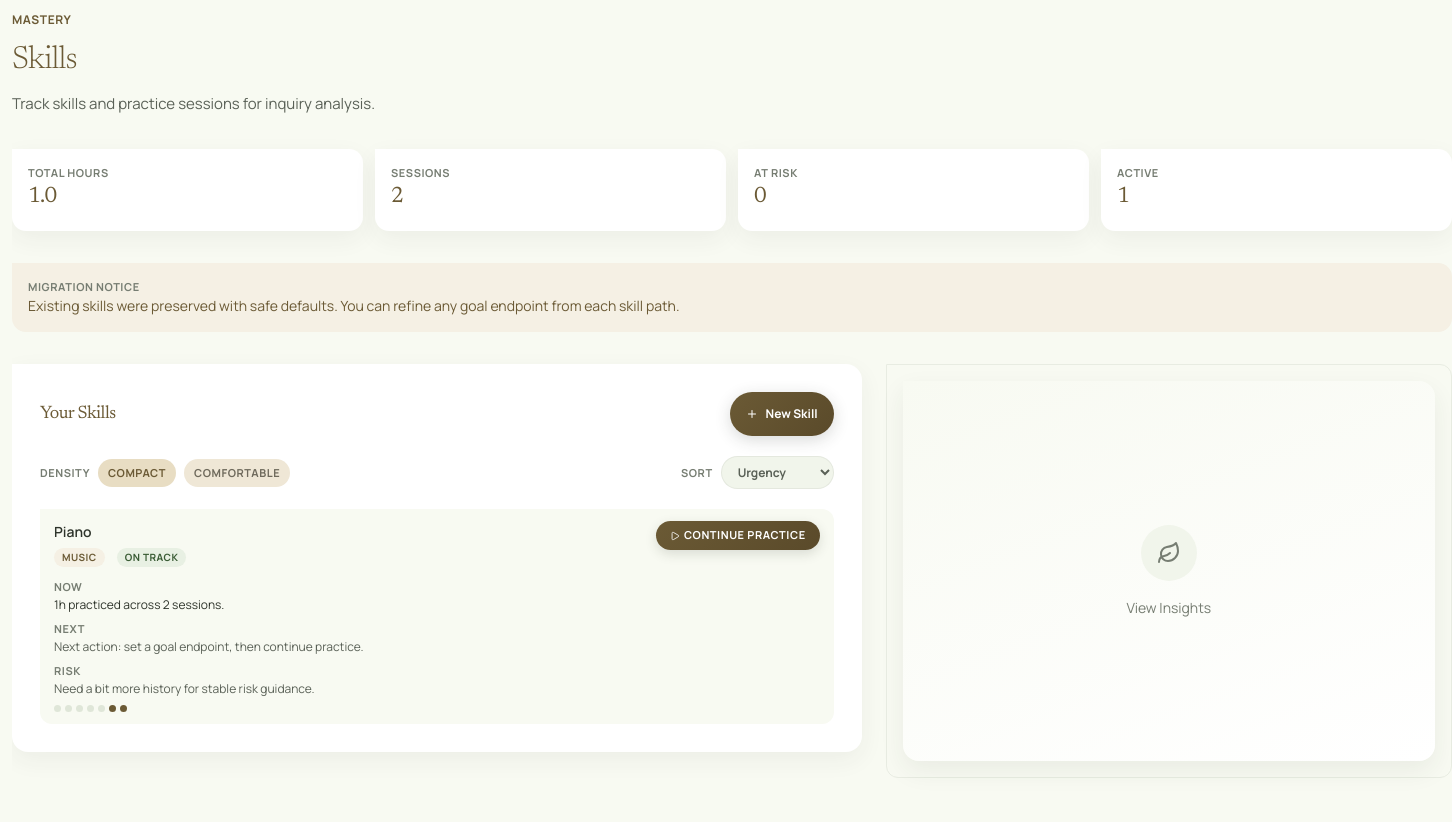
SkillsPage create flow rollout behavior › renders qualitative-goal forecast reason copy for non-projectable goal types
Click the button with aria-label "open details for piano": (437, 617) [40,509,834,724]
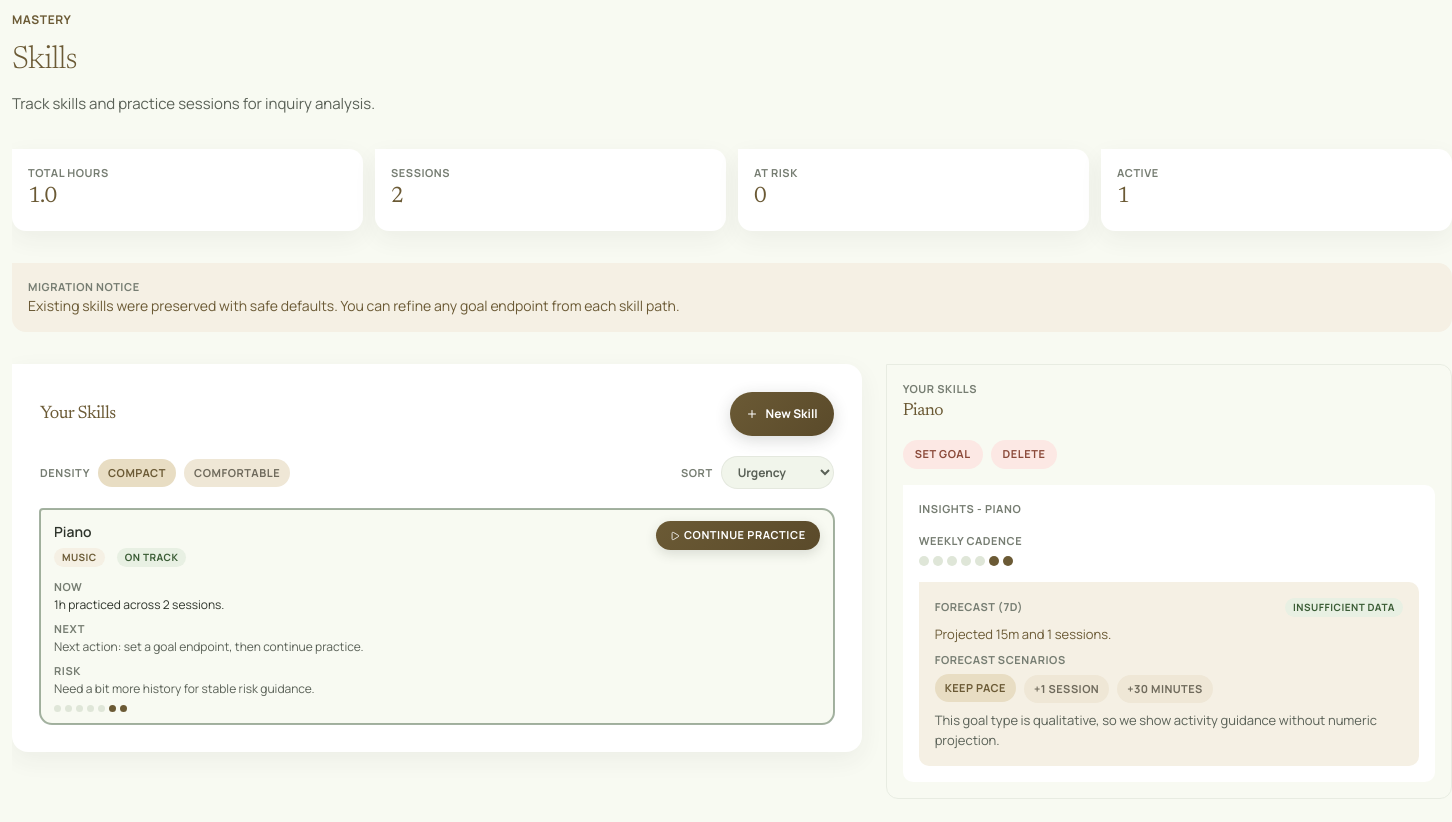
Expected: the text "this goal type is qualitative, so we show activity guidance without numeric projection." is shown, [935,711,1377,749]
